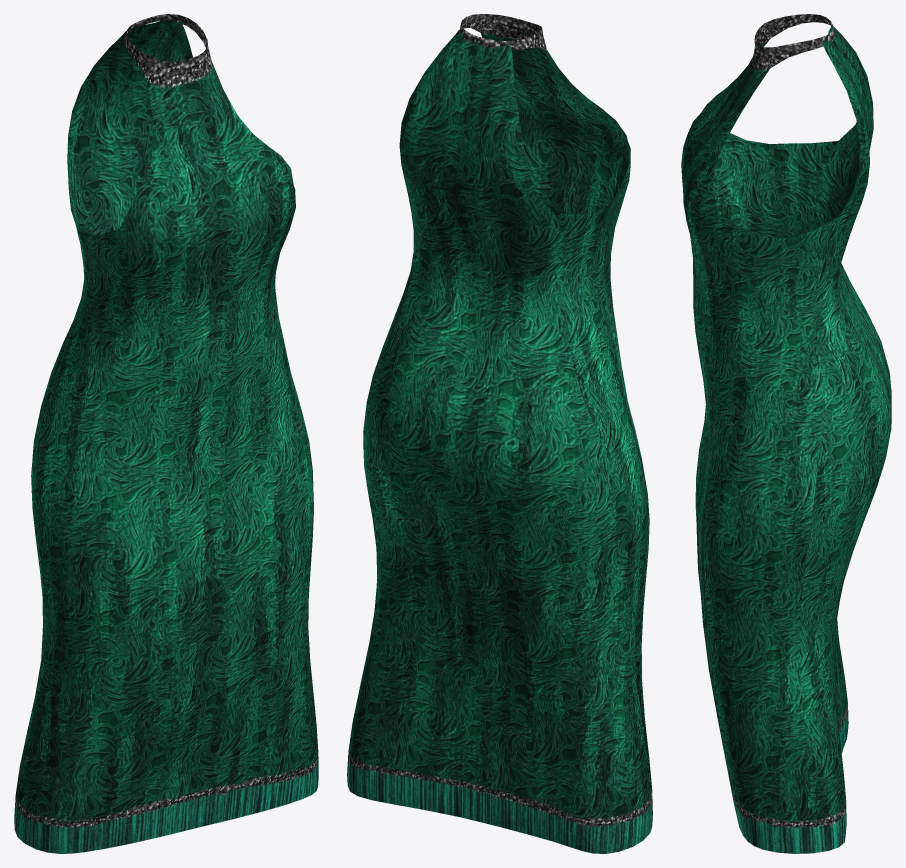
The model's file is elvs-simple-fashion-dress-2.glb.
The picture shows the model from 3 angles, left to right: view 1: azimuth 30°, elevation 25°; view 2: azimuth 150°, elevation 25°; view 3: azimuth 270°, elevation 25°; orthographic projection. The views are drawn at different scales.
Visible parts, largest first — view 1: simple fashion dress 2; view 2: simple fashion dress 2; view 3: simple fashion dress 2.
Boxes of the visible parts, x1,y1,x2,y2 form: simple fashion dress 2: [14, 14, 318, 853]; simple fashion dress 2: [347, 14, 652, 853]; simple fashion dress 2: [681, 14, 891, 853].
Size of the model in its own units: 42.71 by 112 by 27.96.
1 material, 1 textured.
